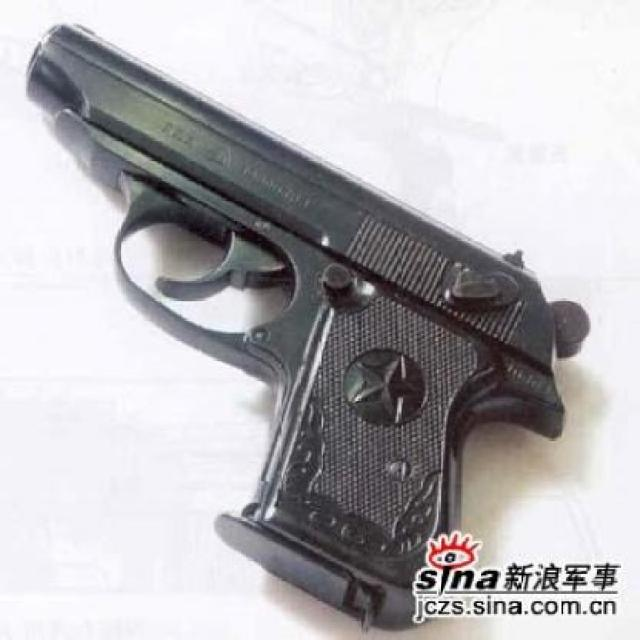guns: (3, 6, 580, 616)
